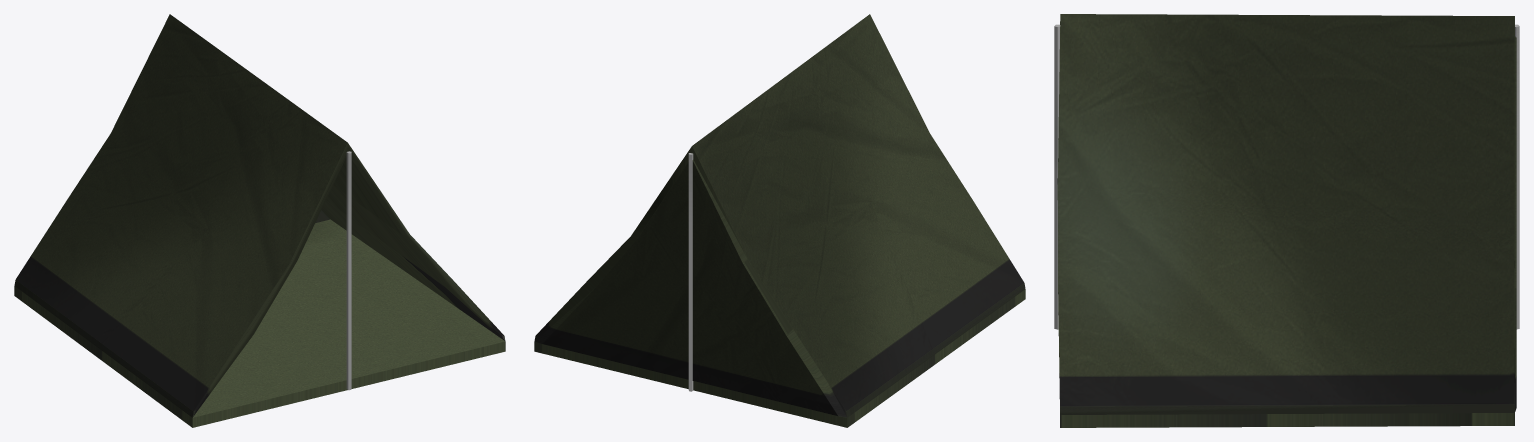
Rendered from Tent_Updated.fbx.
3 renders of one model, left to right at view 1: azimuth 30°, elevation 25°; view 2: azimuth 150°, elevation 25°; view 3: azimuth 270°, elevation 25°, orthographic. The views are drawn at different scales.
Parts seen in each view (by area): view 1: Tent; view 2: Tent; view 3: Tent.
Boxes of the visible parts, box(x1,y1,x2,y2) form: Tent: box(14, 14, 505, 427); Tent: box(534, 14, 1025, 427); Tent: box(1054, 14, 1519, 427).
Size of the model in its own units: 491 by 371 by 496.
